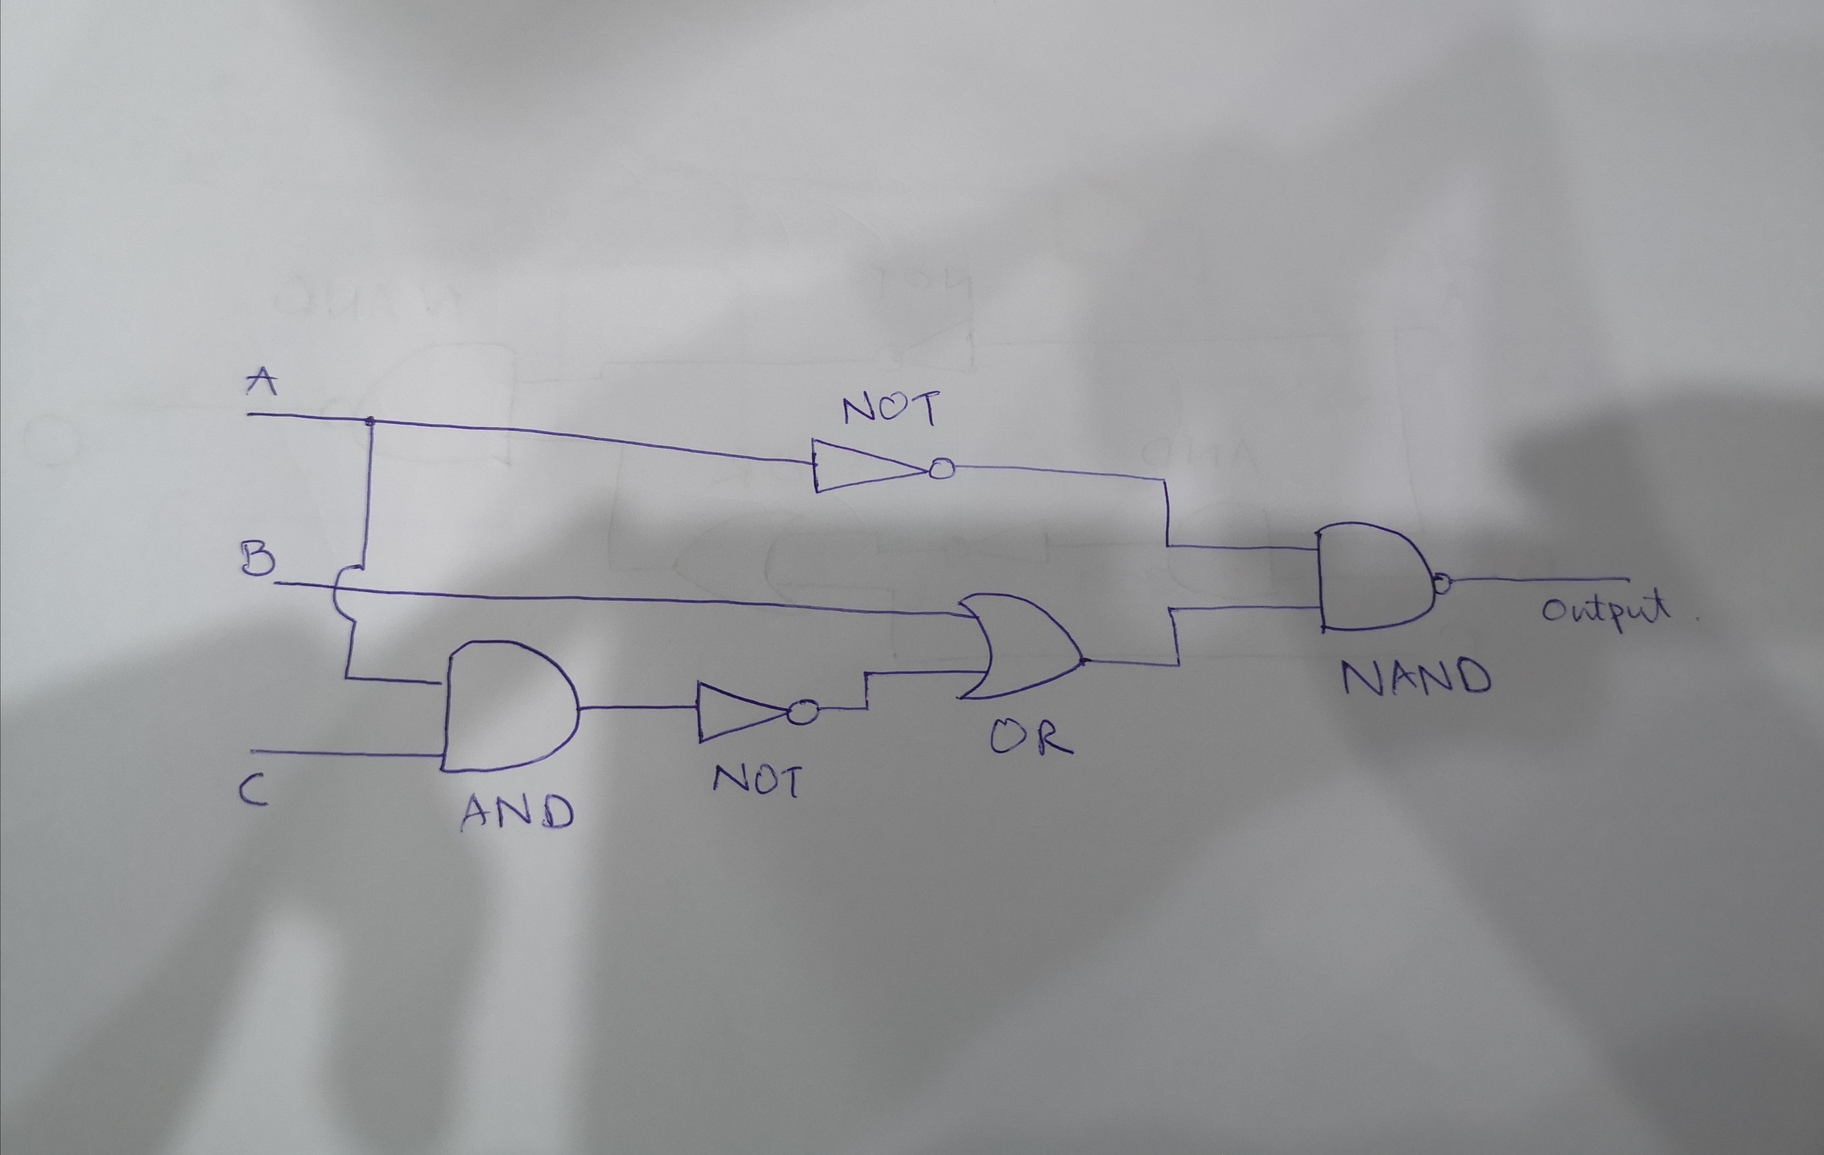and: (429, 629, 592, 783)
crossover: (328, 560, 371, 623)
junction: (335, 666, 359, 688), (358, 409, 382, 432), (1153, 471, 1175, 489), (1157, 536, 1177, 556), (1161, 601, 1179, 617), (1170, 657, 1186, 673), (857, 667, 872, 681), (860, 702, 873, 715)
nand: (1306, 514, 1454, 642)
not: (806, 431, 963, 498), (689, 675, 827, 751)
or: (948, 585, 1098, 708)
terminal: (1617, 572, 1641, 586), (265, 573, 285, 590), (246, 742, 262, 758), (241, 407, 257, 423)
text: (1343, 651, 1496, 704), (1542, 583, 1672, 637), (457, 789, 577, 837), (838, 385, 944, 435), (982, 712, 1078, 764), (709, 755, 808, 803), (235, 536, 279, 579), (241, 359, 286, 401), (234, 766, 273, 808)
